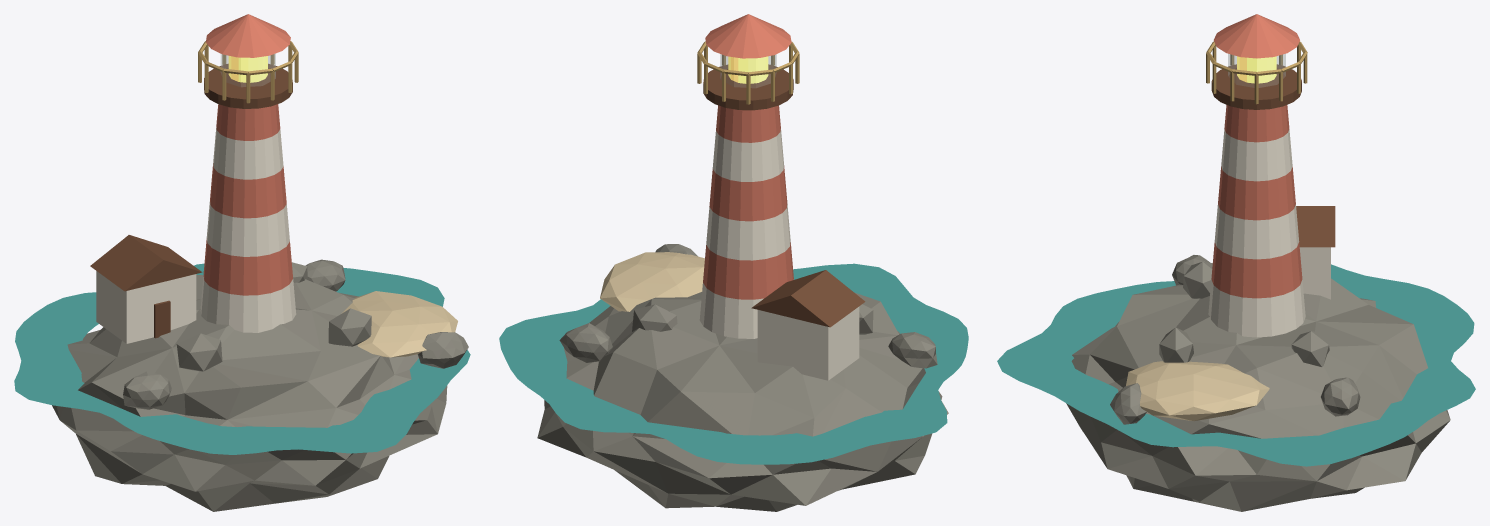
The model's file is diorama-fourth.glb.
3 views of the same model, side by side, from view 1: azimuth 30°, elevation 25°; view 2: azimuth 150°, elevation 25°; view 3: azimuth 270°, elevation 25° (orthographic).
Visible parts, largest first — view 1: Island | lumpy rock raft, Ocean | irregular shore skirt, Keeper hut | walls, Sand | small beach, Keeper hut | pitched roof, Lighthouse | striped tower.001, Lighthouse | striped tower, Lighthouse | striped tower.002, Lighthouse | striped tower.003, Lighthouse | striped tower.004, Lighthouse | roof, Lighthouse | gallery floor (+8 smaller); view 2: Island | lumpy rock raft, Ocean | irregular shore skirt, Keeper hut | walls, Sand | small beach, Keeper hut | pitched roof, Lighthouse | striped tower.001, Lighthouse | striped tower.002, Lighthouse | striped tower.003, Lighthouse | striped tower.004, Lighthouse | roof, Lighthouse | gallery floor, Lighthouse | striped tower (+5 smaller); view 3: Island | lumpy rock raft, Ocean | irregular shore skirt, Sand | small beach, Lighthouse | striped tower, Lighthouse | striped tower.001, Lighthouse | striped tower.002, Lighthouse | striped tower.003, Lighthouse | striped tower.004, Lighthouse | roof, Lighthouse | gallery floor, Lighthouse | striped tower.005, Keeper hut | pitched roof (+7 smaller).
Part boxes in pixels (x1,y1,x2,y2): Island | lumpy rock raft: (52, 274, 447, 511); Ocean | irregular shore skirt: (14, 263, 470, 454); Keeper hut | walls: (96, 271, 196, 343); Sand | small beach: (341, 291, 457, 357); Keeper hut | pitched roof: (90, 235, 202, 291); Lighthouse | striped tower.001: (203, 238, 292, 295); Lighthouse | striped tower: (200, 275, 296, 332); Lighthouse | striped tower.002: (206, 202, 289, 256); Lighthouse | striped tower.003: (210, 163, 286, 218); Lighthouse | striped tower.004: (213, 127, 283, 179); Lighthouse | roof: (206, 14, 290, 57); Lighthouse | gallery floor: (204, 64, 292, 108); Island | lumpy rock raft: (537, 292, 948, 511); Ocean | irregular shore skirt: (499, 263, 968, 464); Keeper hut | walls: (757, 306, 859, 380); Sand | small beach: (600, 252, 704, 311); Keeper hut | pitched roof: (751, 270, 865, 327); Lighthouse | striped tower.001: (703, 242, 793, 299); Lighthouse | striped tower.002: (706, 204, 790, 260); Lighthouse | striped tower.003: (709, 166, 787, 221); Lighthouse | striped tower.004: (712, 129, 784, 181); Lighthouse | roof: (705, 14, 791, 58); Lighthouse | gallery floor: (703, 64, 793, 110); Lighthouse | striped tower: (699, 279, 793, 338); Island | lumpy rock raft: (1066, 278, 1450, 511); Ocean | irregular shore skirt: (997, 264, 1475, 466); Sand | small beach: (1126, 361, 1269, 421); Lighthouse | striped tower: (1208, 279, 1305, 337); Lighthouse | striped tower.001: (1211, 242, 1302, 298); Lighthouse | striped tower.002: (1214, 204, 1299, 259); Lighthouse | striped tower.003: (1218, 166, 1295, 220); Lighthouse | striped tower.004: (1221, 129, 1292, 181); Lighthouse | roof: (1213, 14, 1299, 58); Lighthouse | gallery floor: (1211, 64, 1301, 109); Lighthouse | striped tower.005: (1224, 105, 1289, 142); Keeper hut | pitched roof: (1296, 206, 1335, 247).
Bounding box in the file's own units: 0.2731 × 0.2854 × 0.2651.
